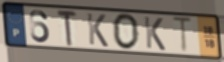6: (28, 9, 51, 44)
K: (85, 12, 110, 49), (143, 16, 167, 53)
O: (111, 12, 141, 52)
T: (170, 15, 194, 55), (55, 9, 79, 48)
